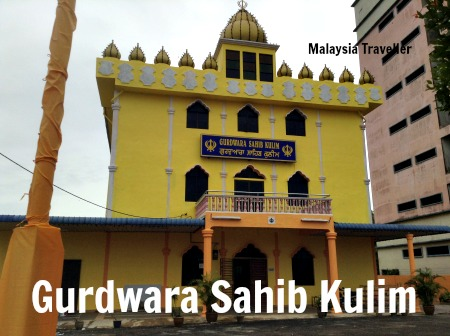Gurdwara: (25, 1, 378, 310)
